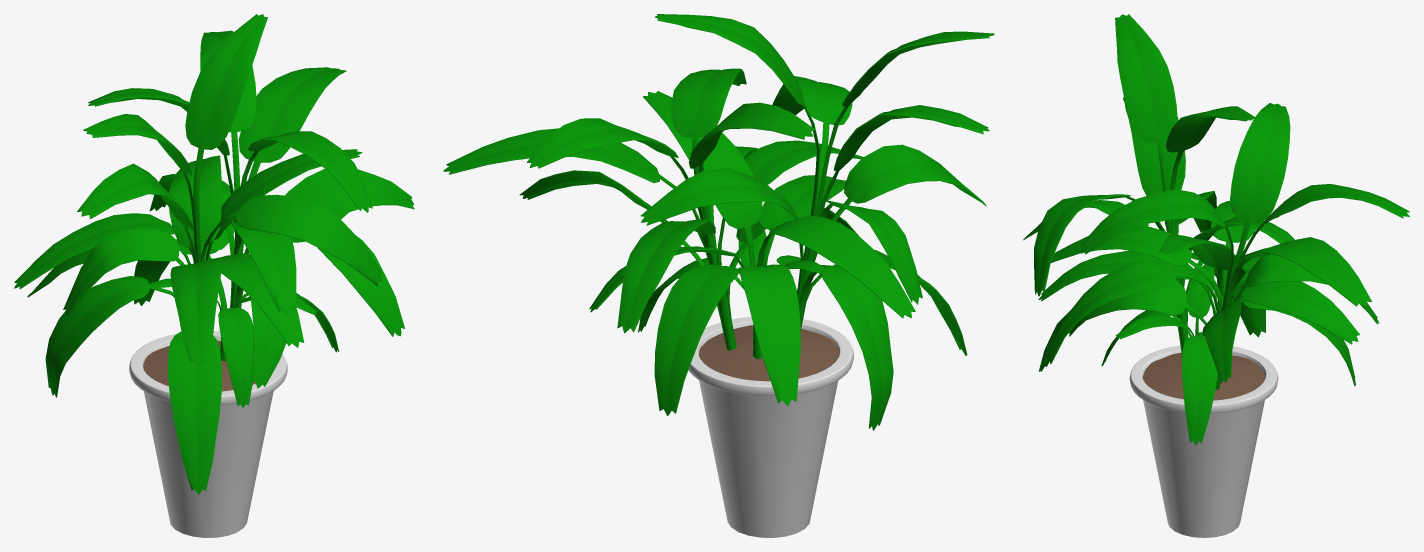
The model's file is houseplant.fbx.
3 renders of one model, left to right at view 1: azimuth 30°, elevation 25°; view 2: azimuth 150°, elevation 25°; view 3: azimuth 270°, elevation 25°, orthographic. The views are drawn at different scales.
Parts seen in each view (by area): view 1: smallhouseplant; view 2: smallhouseplant; view 3: smallhouseplant.
Boxes of the visible parts, x1=… form: smallhouseplant: x1=14, y1=14, x2=414, y2=537; smallhouseplant: x1=443, y1=14, x2=994, y2=537; smallhouseplant: x1=1023, y1=14, x2=1409, y2=537.
Size of the model in its own units: 44 by 51.2 by 40.72.
